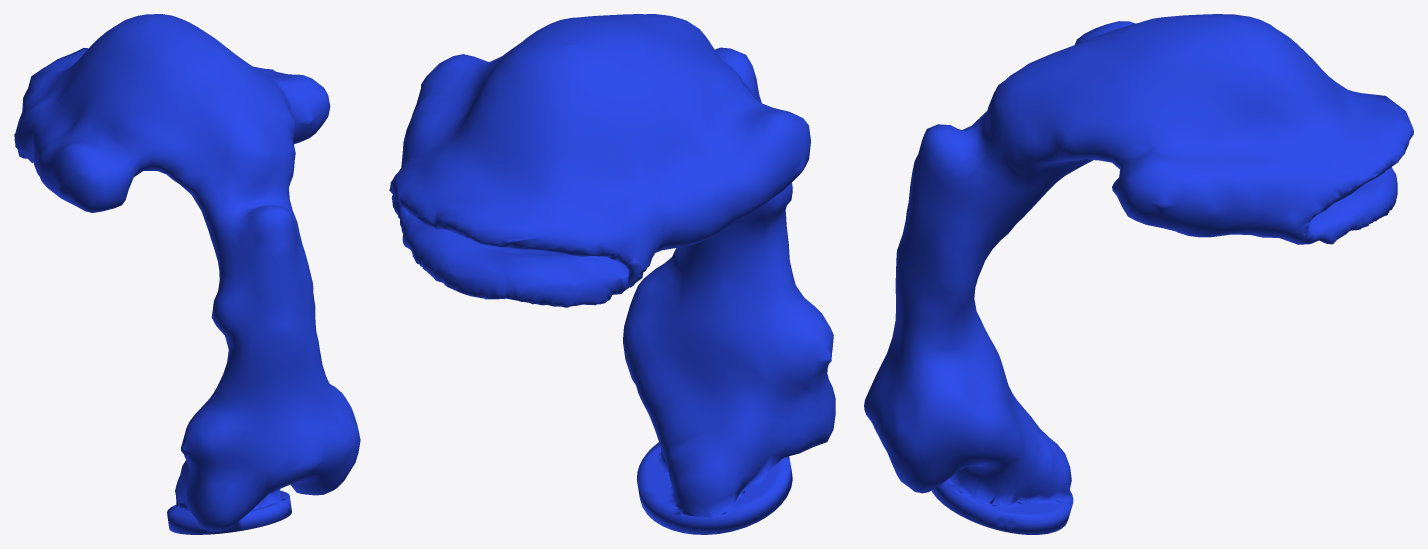
Rendered from vocalTract.glb.
3 views of the same model, side by side, from view 1: azimuth 30°, elevation 25°; view 2: azimuth 150°, elevation 25°; view 3: azimuth 270°, elevation 25° (orthographic). The views are drawn at different scales.
Parts seen in each view (by area): view 1: s1-01-bahn-tense-a-printable-model (1); view 2: s1-01-bahn-tense-a-printable-model (1); view 3: s1-01-bahn-tense-a-printable-model (1).
Part boxes in pixels (<box>): s1-01-bahn-tense-a-printable-model (1): <box>14,14,360,534</box>; s1-01-bahn-tense-a-printable-model (1): <box>389,14,835,534</box>; s1-01-bahn-tense-a-printable-model (1): <box>864,14,1413,534</box>.
Bounding box in the file's own units: 79.8 × 117 × 114.
